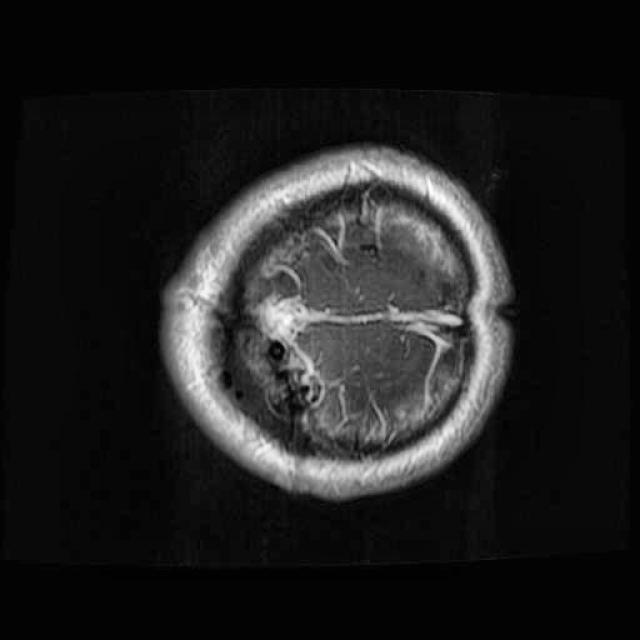Tumor: (224, 256, 344, 446)
